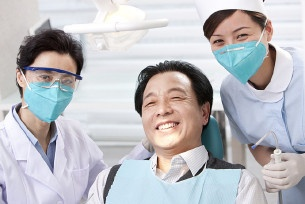Mask: (209, 27, 263, 81)
